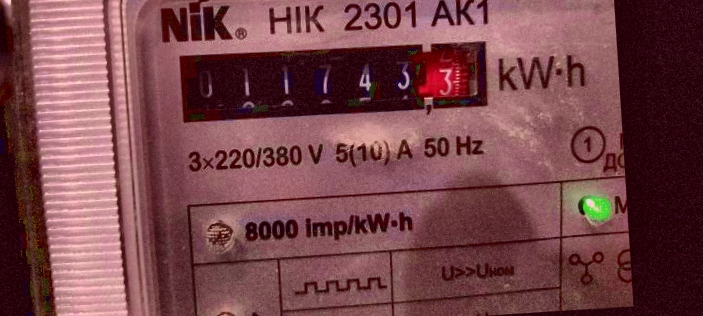0: (193, 65, 214, 102)
1: (276, 61, 293, 96), (239, 64, 251, 97)
3: (390, 56, 411, 93), (435, 66, 455, 100)
4: (353, 59, 372, 94)
7: (314, 60, 334, 95)
screen: (163, 24, 502, 139)
